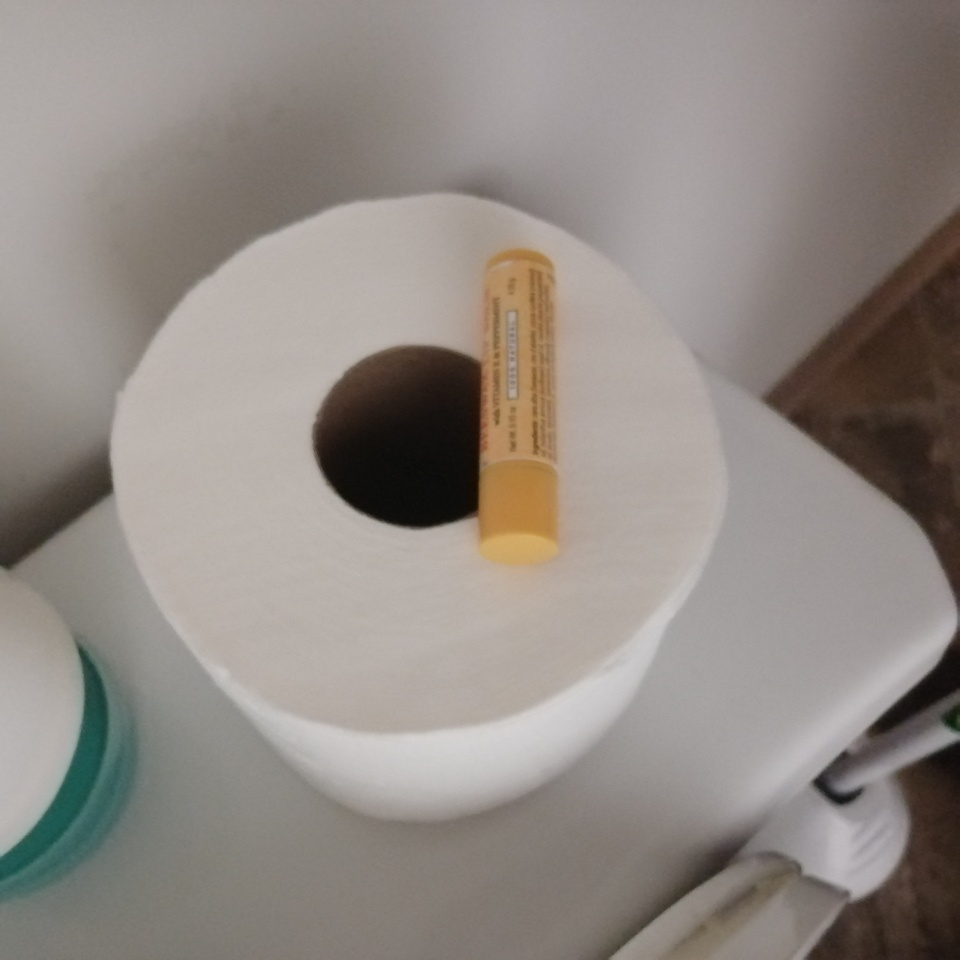chapstick: (478, 247, 562, 571)
